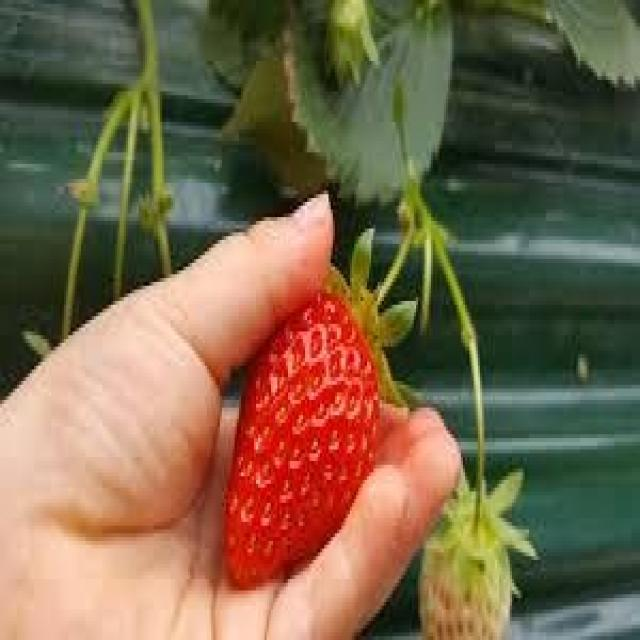mature: (223, 290, 379, 589)
